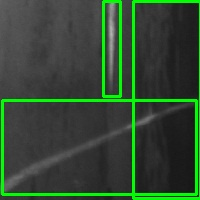inclusion: (133, 1, 200, 198)
scratches: (2, 100, 196, 194), (103, 1, 120, 96)
